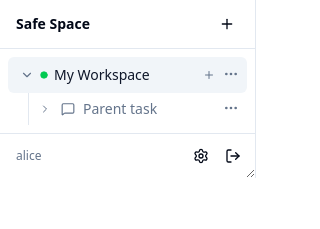
Test: Sidebar — session hierarchy › expanding a parent reveals its subtask children
Expected: the text "Parent task" is shown, [83, 99, 157, 118]
Expected: the text "Subtask child" is not shown
Note: The expand chevron is keyed off aria-label.
Click the button named "Expand subtasks" at (45, 109), box [37, 101, 53, 117]
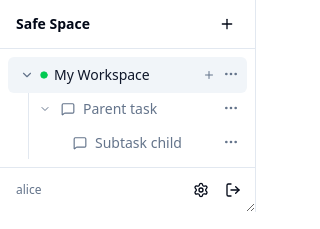
Expected: the text "Subtask child" is shown, [95, 133, 182, 152]
